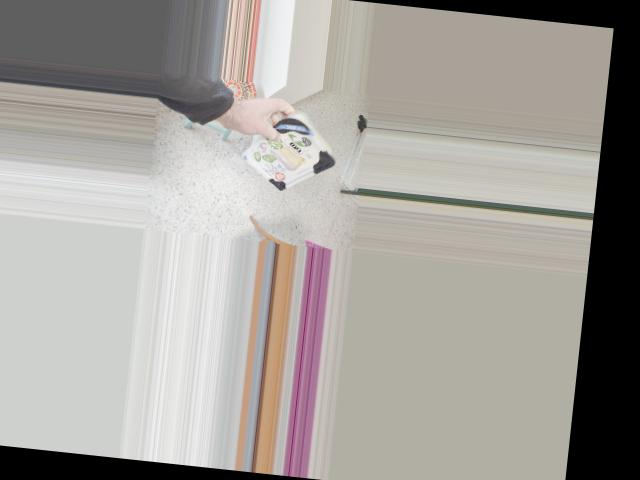cheese: (252, 91, 339, 204)
